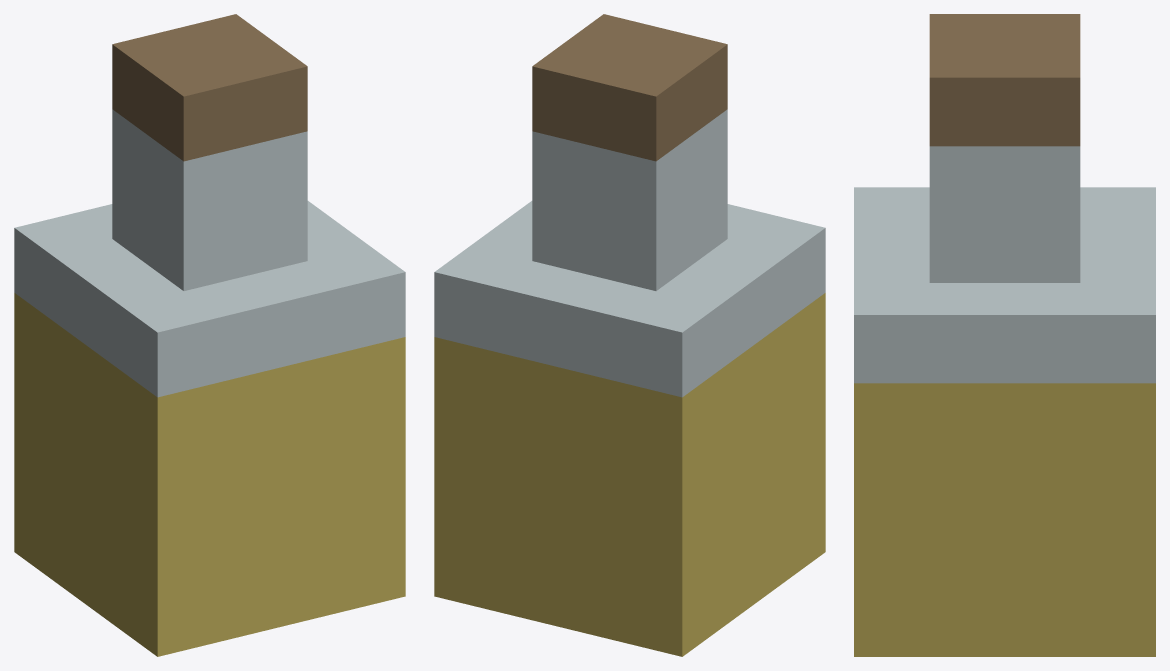
Rendered from elixir_del_jarl_01.glb.
The picture shows the model from 3 angles, left to right: view 1: azimuth 30°, elevation 25°; view 2: azimuth 150°, elevation 25°; view 3: azimuth 270°, elevation 25°; orthographic projection. The views are drawn at different scales.
Parts seen in each view (by area): view 1: elixir_del_jarl; view 2: elixir_del_jarl; view 3: elixir_del_jarl.
Boxes of the visible parts, x1,y1,x2,y2 form: elixir_del_jarl: (14,14,405,656); elixir_del_jarl: (434,14,825,656); elixir_del_jarl: (854,14,1155,656).
Size of the model in its own units: 0.3333 by 0.6667 by 0.3333.
